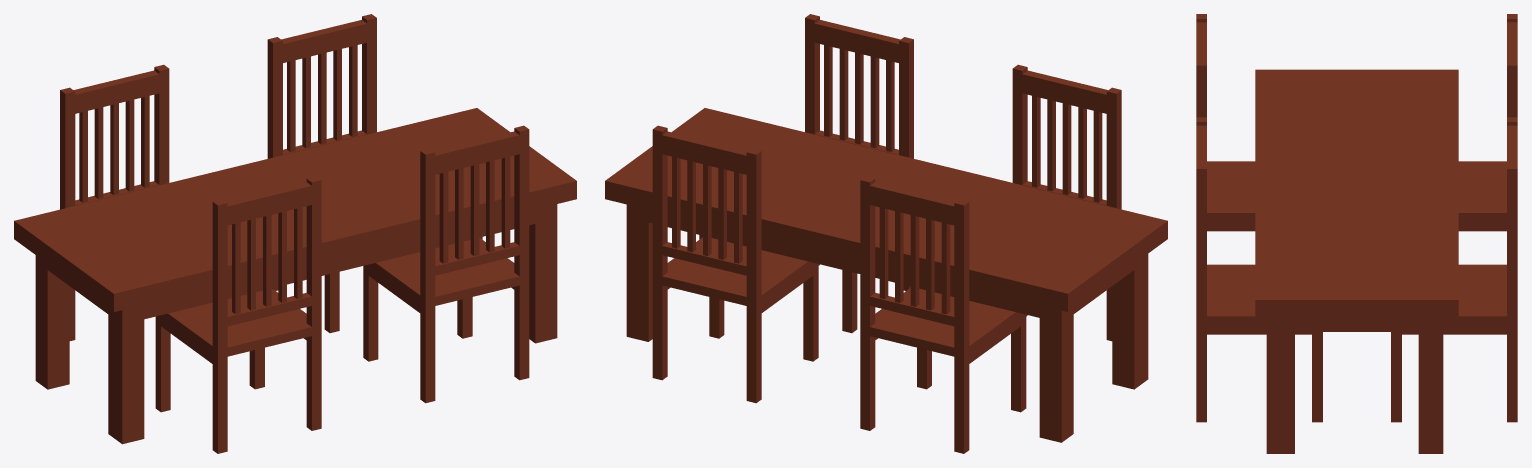
Rendered from Table.fbx.
3 views of the same model, side by side, from view 1: azimuth 30°, elevation 25°; view 2: azimuth 150°, elevation 25°; view 3: azimuth 270°, elevation 25° (orthographic).
Visible parts, largest first — view 1: Cube.015, Cube.001, Cube.004, Cube.002, Cube.003; view 2: Cube.015, Cube.003, Cube.002, Cube.001, Cube.004; view 3: Cube.015, Cube.002, Cube.001, Cube.003, Cube.004.
Part boxes in pixels (x1,y1,x2,y2): Cube.015: [14, 108, 576, 444]; Cube.001: [363, 125, 529, 403]; Cube.004: [155, 176, 321, 453]; Cube.002: [267, 14, 376, 333]; Cube.003: [60, 64, 169, 340]; Cube.015: [605, 108, 1167, 442]; Cube.003: [860, 176, 1026, 453]; Cube.002: [652, 125, 818, 403]; Cube.001: [805, 14, 913, 333]; Cube.004: [1012, 64, 1121, 341]; Cube.015: [1255, 69, 1458, 453]; Cube.002: [1391, 117, 1517, 422]; Cube.001: [1196, 117, 1322, 422]; Cube.003: [1458, 14, 1517, 231]; Cube.004: [1196, 14, 1255, 231].
Bounding box in the file's own units: 332 × 171 × 196.
